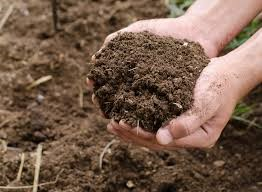dirt: (2, 3, 87, 190), (89, 31, 207, 128), (88, 149, 259, 190), (88, 1, 162, 27)
